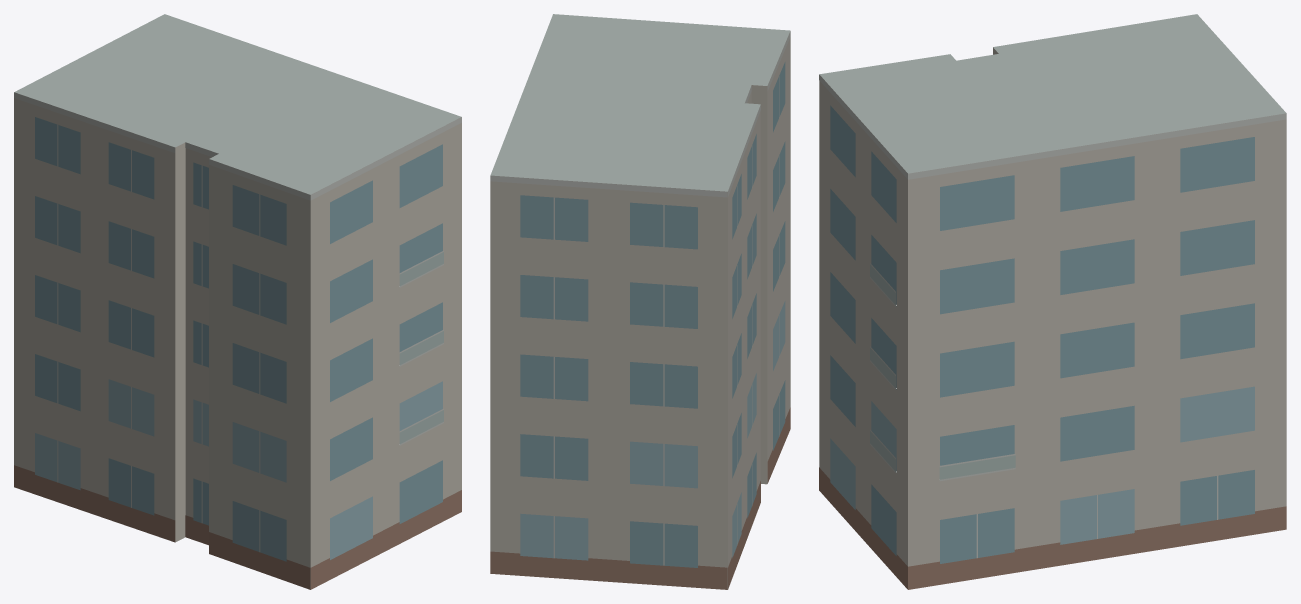
File: survey-upis-32834263.glb
The picture shows the model from 3 angles, left to right: view 1: azimuth 30°, elevation 25°; view 2: azimuth 150°, elevation 25°; view 3: azimuth 270°, elevation 25°; orthographic projection. The views are drawn at different scales.
Parts seen in each view (by area): view 1: survey-upis-32834263.tmp; view 2: survey-upis-32834263.tmp; view 3: survey-upis-32834263.tmp.
Boxes of the visible parts, x1,y1,x2,y2 form: survey-upis-32834263.tmp: [14, 14, 461, 589]; survey-upis-32834263.tmp: [490, 14, 790, 589]; survey-upis-32834263.tmp: [819, 14, 1286, 589].
Bounding box in the file's own units: 13.67 × 16.6 × 16.91.
